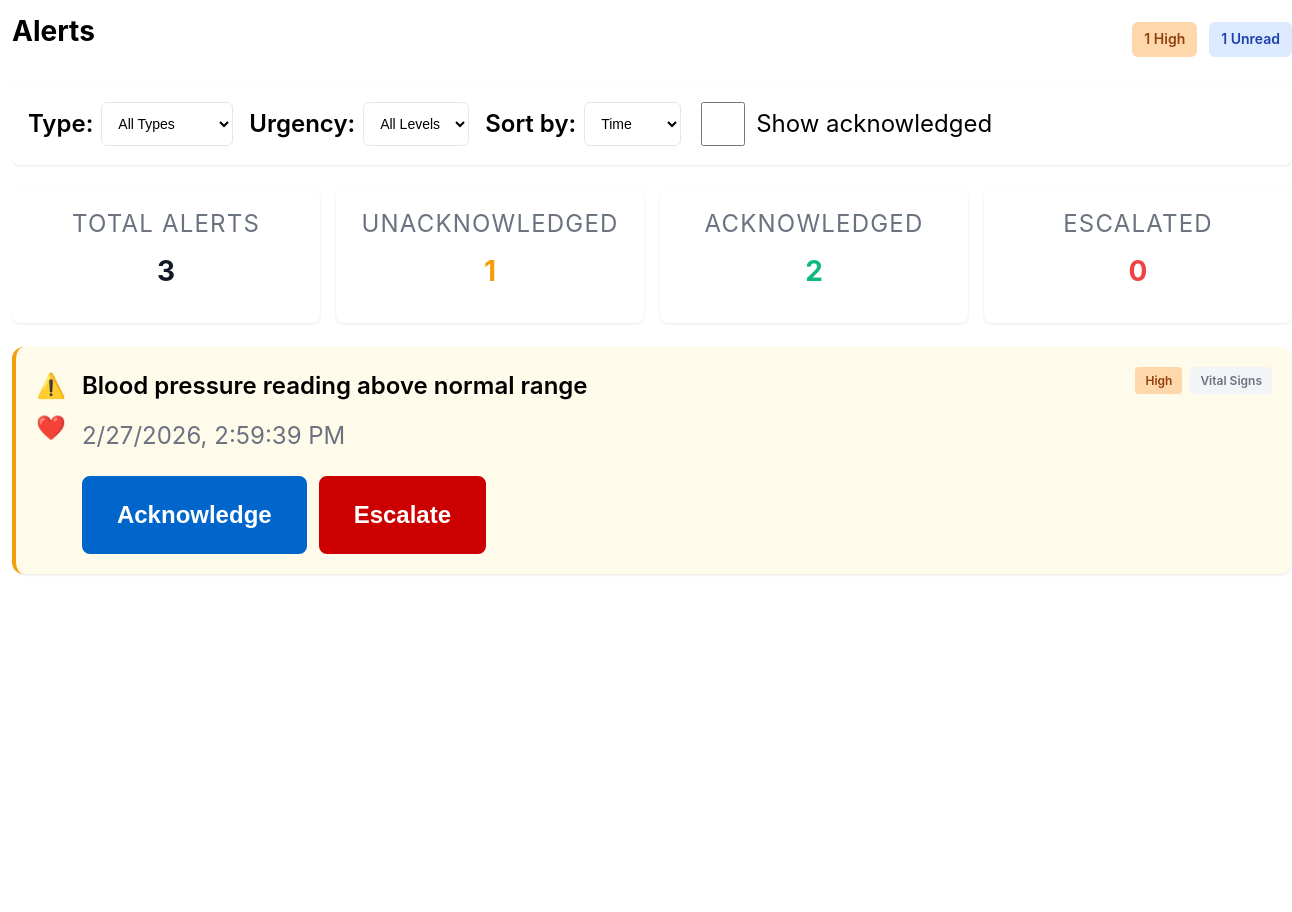
AlertsPanelWidget › Alert Acknowledgment › should acknowledge an alert when acknowledge button is clicked
The width and height of the screenshot is (1292, 912).
Expected: the text "Blood pressure reading above normal range" is shown, [82,367,588,405]
Note: Find and click acknowledge button
Click the button "Acknowledge" at (194, 514), box [82,476,307,554]
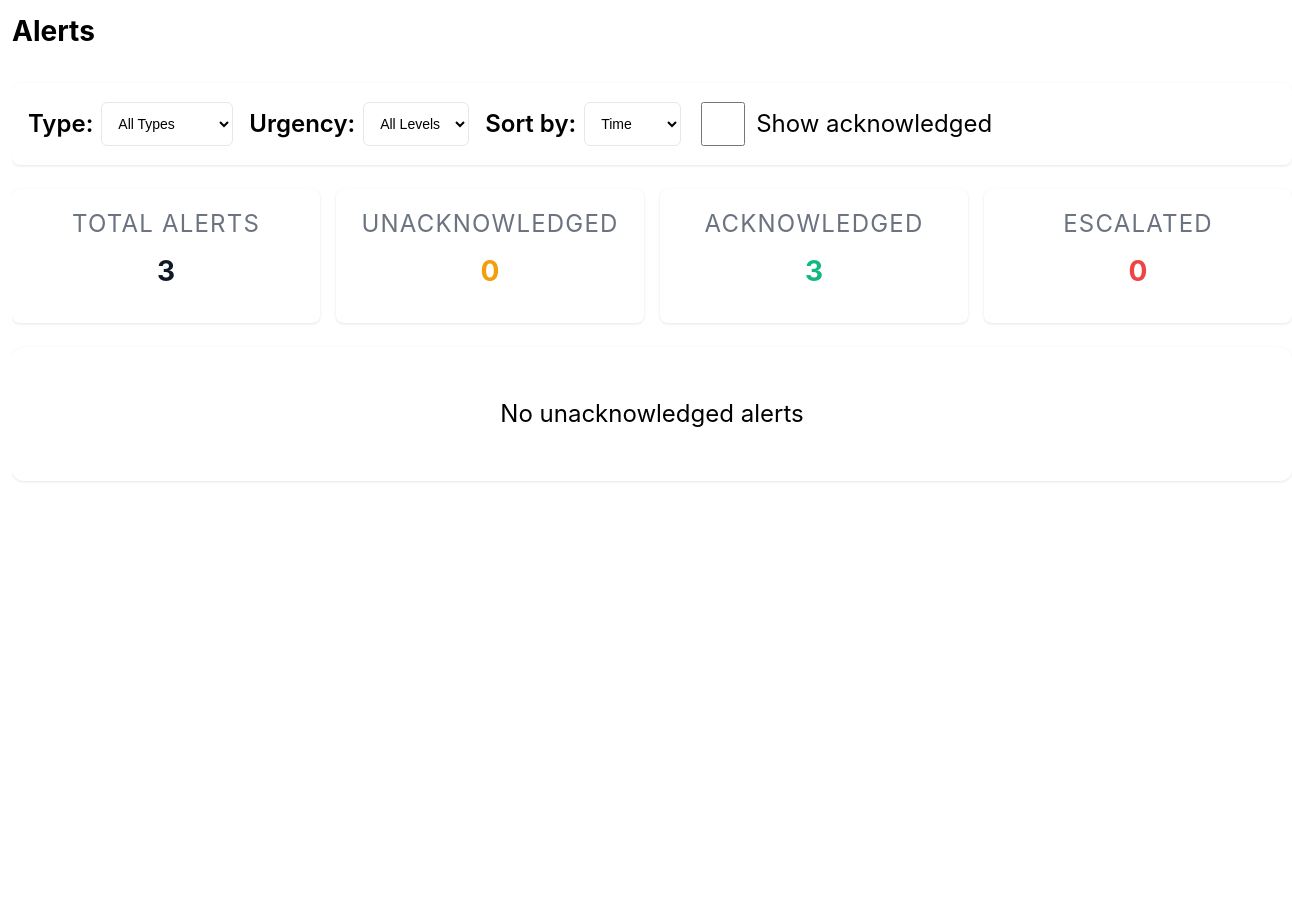
Expected: the text "Blood pressure reading above normal range" is gone
Note: Show acknowledged alerts to see the acknowledgment
Click the checkbox named "Show acknowledged alerts" at (723, 124), box [701,102,745,146]
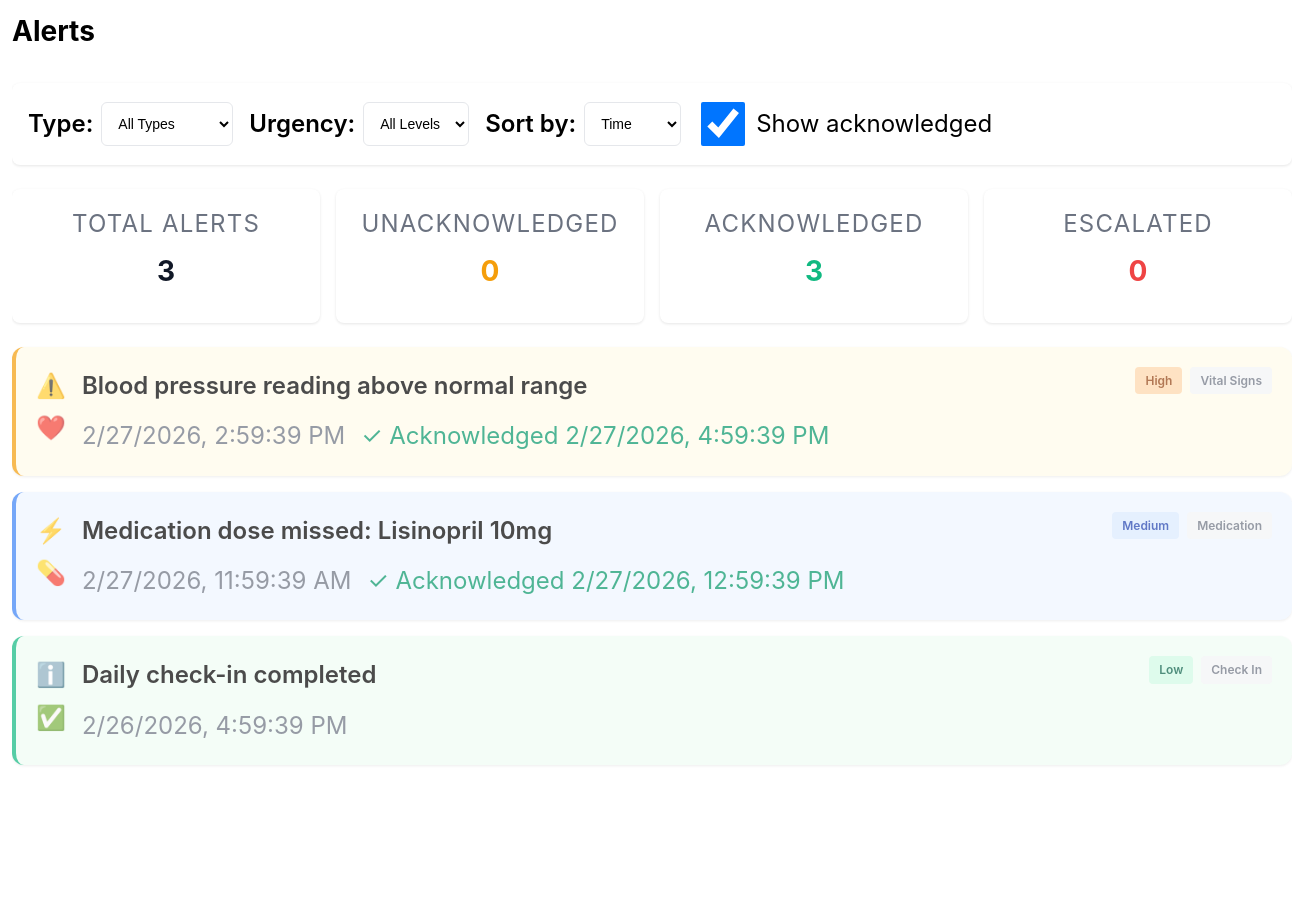
Expected: the text "Blood pressure reading above normal range" is shown, [82,367,588,405]
Expected: the text "✓ Acknowledged 2/27/2026, 4:59:39 PM" is shown, [361,417,829,456]
